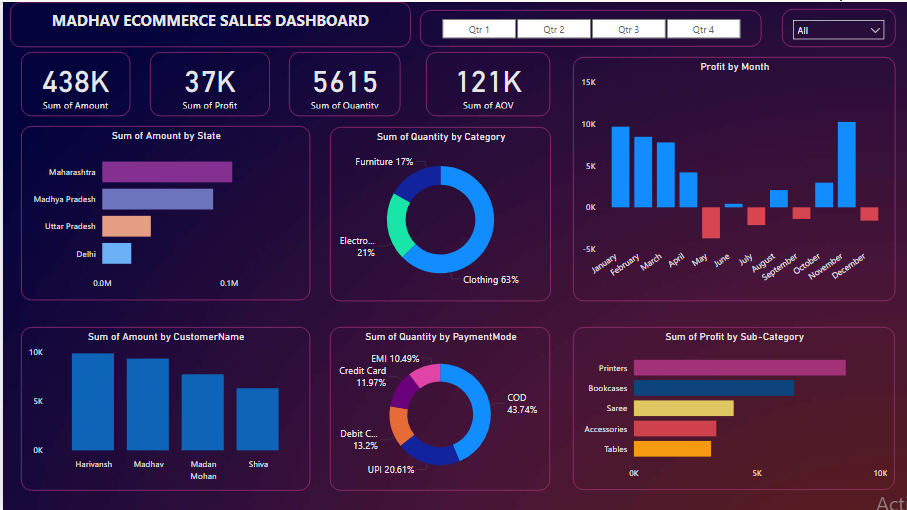

Layout of this report page (visuals, bound fields, positions):
{"tool":"powerbi","page":{"name":"Page 1","canvas":[1280,720],"ordinal":0},"visuals":[{"type":"textbox","box":[10.1,0,567.8,63.8],"z":0},{"type":"columnChart","title":"Profit by Month","fields":{"Category":["Orders.Order Date.Variation.Date Hierarchy.Month"],"Y":["Details.Profit"]},"box":[808,77.3,456.9,346],"z":1000},{"type":"barChart","fields":{"Category":["Details.Sub-Category"],"Y":["Details.Profit"]},"box":[807.9,460.6,456.4,231],"z":2000},{"type":"donutChart","fields":{"Category":["Details.Category"],"Y":["Details.Quantity"]},"box":[463.5,177.2,313.2,246.6],"z":3000},{"type":"donutChart","fields":{"Category":["Details.PaymentMode"],"Y":["Details.Quantity"]},"box":[463.6,460.3,312.4,231.8],"z":4000},{"type":"card","fields":{"Values":["Details.Amount"]},"box":[25.2,70.6,154.5,90.7],"z":5000},{"type":"card","fields":{"Values":["Details.Profit"]},"box":[208.3,70.6,169.7,90.7],"z":6000},{"type":"card","fields":{"Values":["Details.Quantity"]},"box":[404.8,70.6,157.9,90.7],"z":7000},{"type":"card","fields":{"Values":["Details.AOV"]},"box":[599.7,70.6,176.4,90.7],"z":8000},{"type":"barChart","fields":{"Category":["Orders.State"],"Y":["Details.Amount"]},"box":[25.2,176.4,409.9,246.9],"z":9000},{"type":"columnChart","fields":{"Category":["Orders.CustomerName"],"Y":["Details.Amount"]},"box":[25.2,460.3,409.9,231.8],"z":10000},{"type":"slicer","fields":{"Values":["Orders.Order Date.Variation.Date Hierarchy.Quarter"]},"box":[591.3,11.8,483.8,52.1],"z":11000},{"type":"slicer","fields":{"Values":["Orders.State"]},"box":[1103.6,10.1,161.3,53.8],"z":12000}]}

Visuals, with their boxes in screenshot pixels (x1, y1, x2, y2), scaled from the page's 1280x720 canvas onto the 907x510 screenshot:
textbox: (x1=7, y1=0, x2=409, y2=45)
"Profit by Month" columnChart: (x1=573, y1=55, x2=896, y2=300)
barChart - Details.Sub-Category x Details.Profit: (x1=572, y1=326, x2=896, y2=490)
donutChart - Details.Category x Details.Quantity: (x1=328, y1=126, x2=550, y2=300)
donutChart - Details.PaymentMode x Details.Quantity: (x1=329, y1=326, x2=550, y2=490)
card - Details.Amount: (x1=18, y1=50, x2=127, y2=114)
card - Details.Profit: (x1=148, y1=50, x2=268, y2=114)
card - Details.Quantity: (x1=287, y1=50, x2=399, y2=114)
card - Details.AOV: (x1=425, y1=50, x2=550, y2=114)
barChart - Orders.State x Details.Amount: (x1=18, y1=125, x2=308, y2=300)
columnChart - Orders.CustomerName x Details.Amount: (x1=18, y1=326, x2=308, y2=490)
slicer - Orders.Order Date.Variation.Date Hierarchy.Quarter: (x1=419, y1=8, x2=762, y2=45)
slicer - Orders.State: (x1=782, y1=7, x2=896, y2=45)
